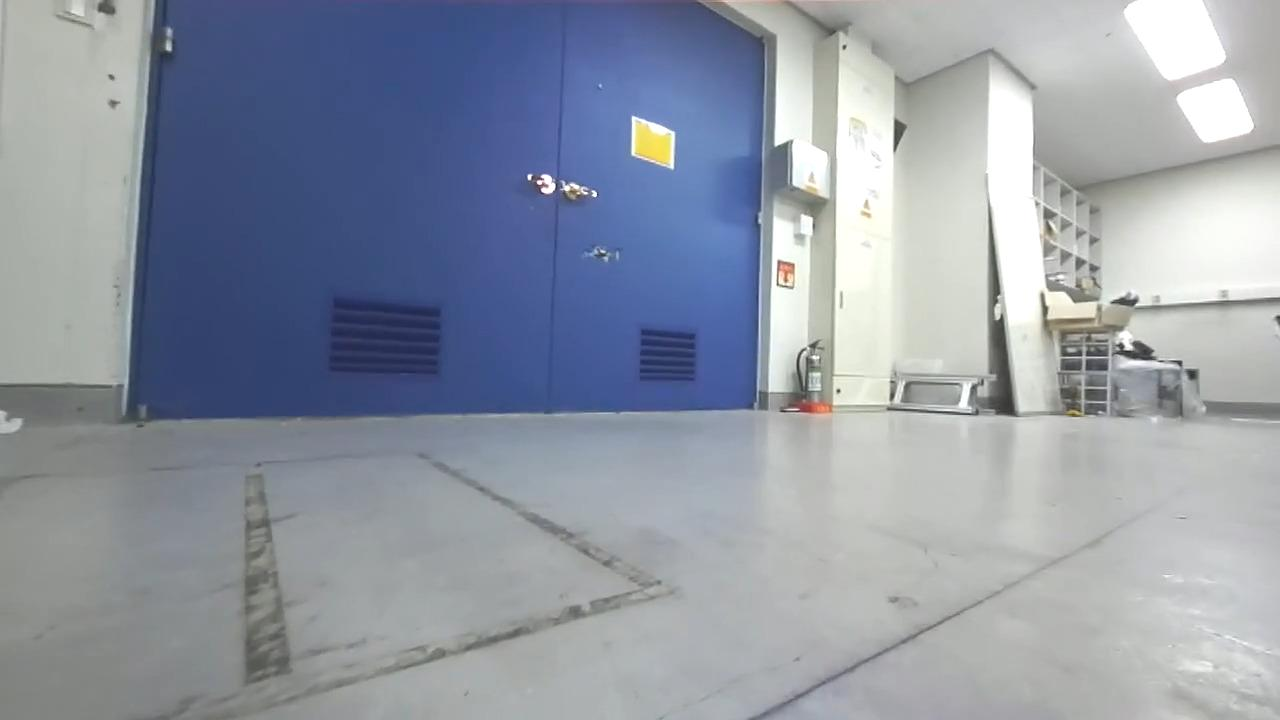crazyflie: (580, 240, 626, 270)
